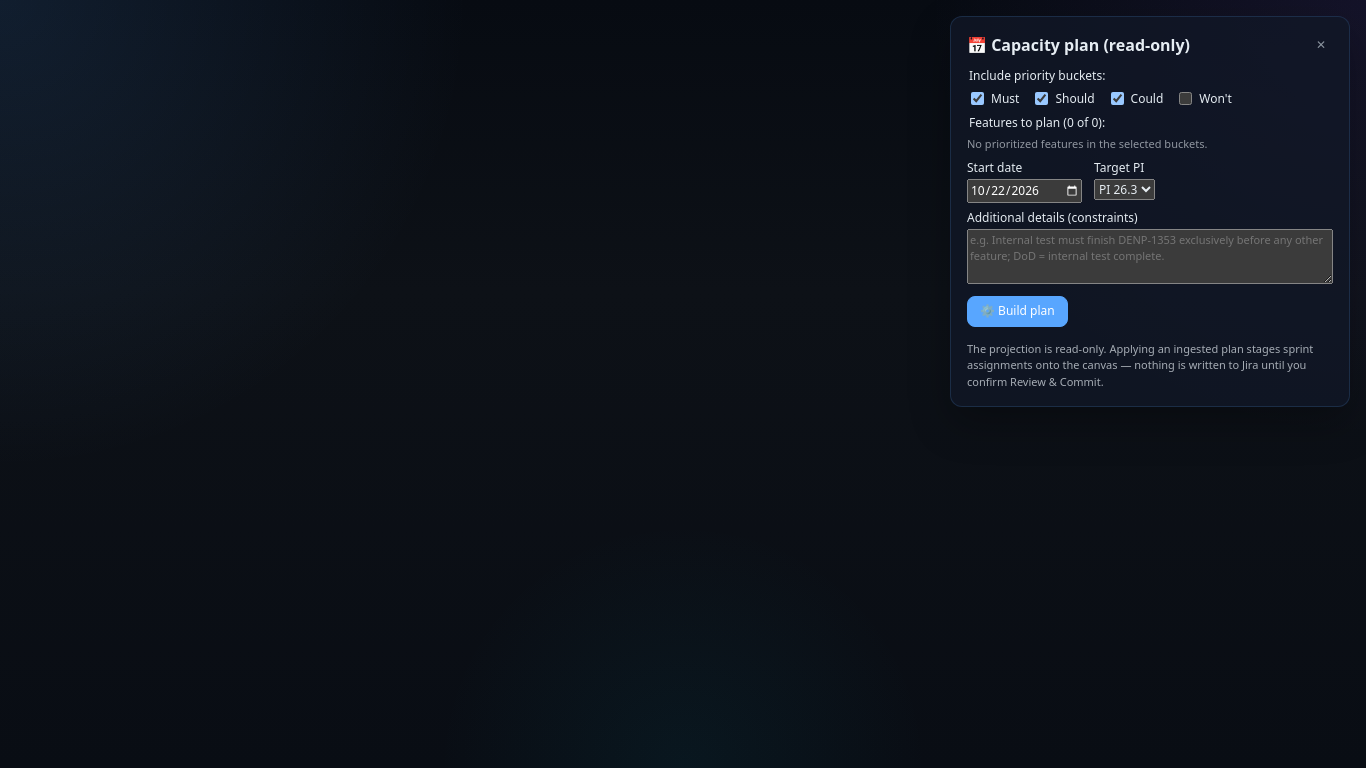
Test case: CapacityPlanPanel (controls) › surfaces a clear error when Build is clicked with no roster
Click the button "⚙️ Build plan" at {"x": 1017, "y": 311}, box [967,296,1068,327]
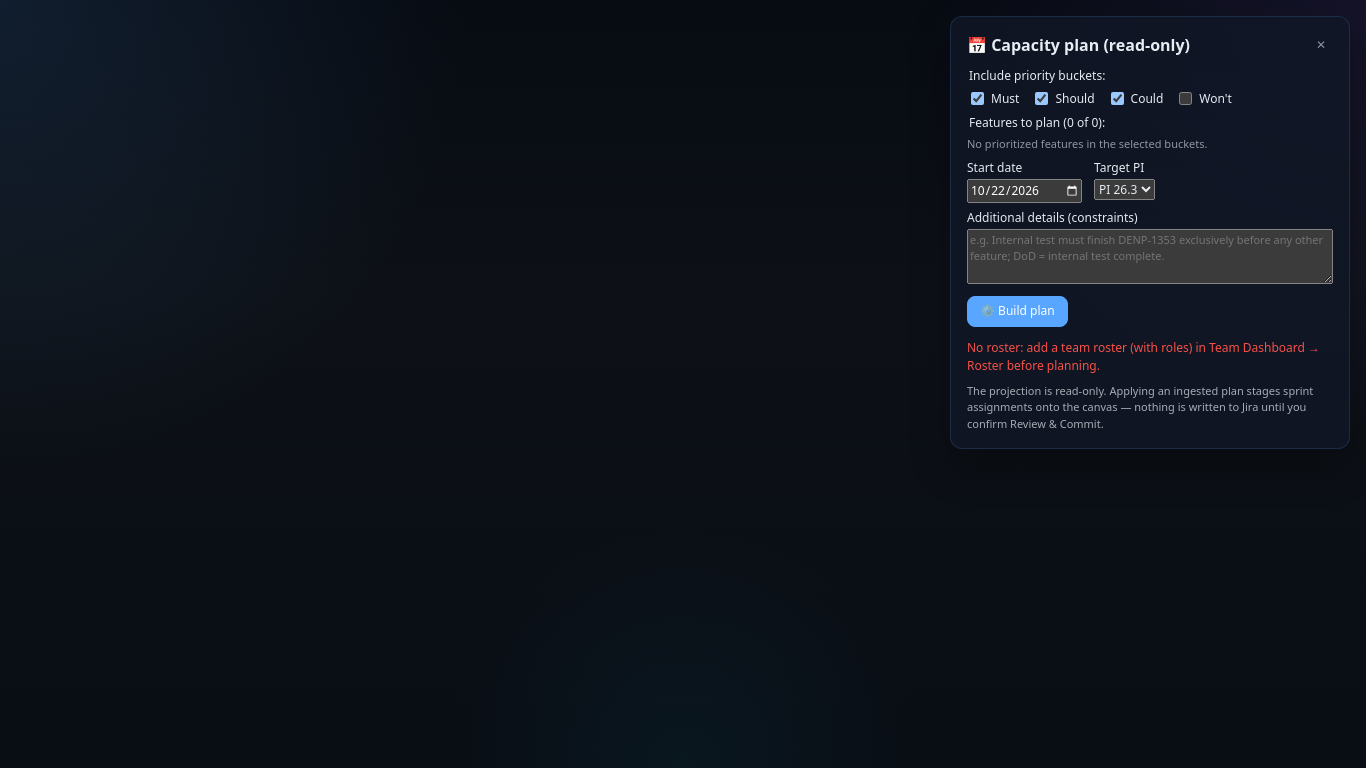
Expected: the message shows "No roster", [967,339,1320,374]
